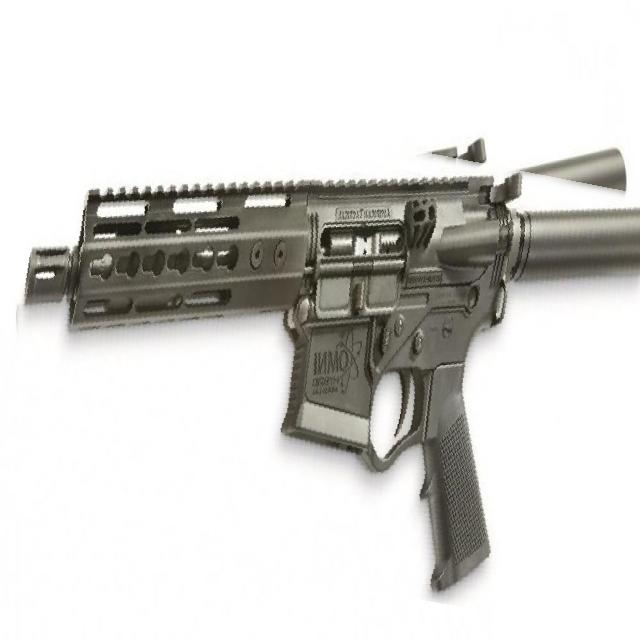gun: (0, 108, 640, 603)
